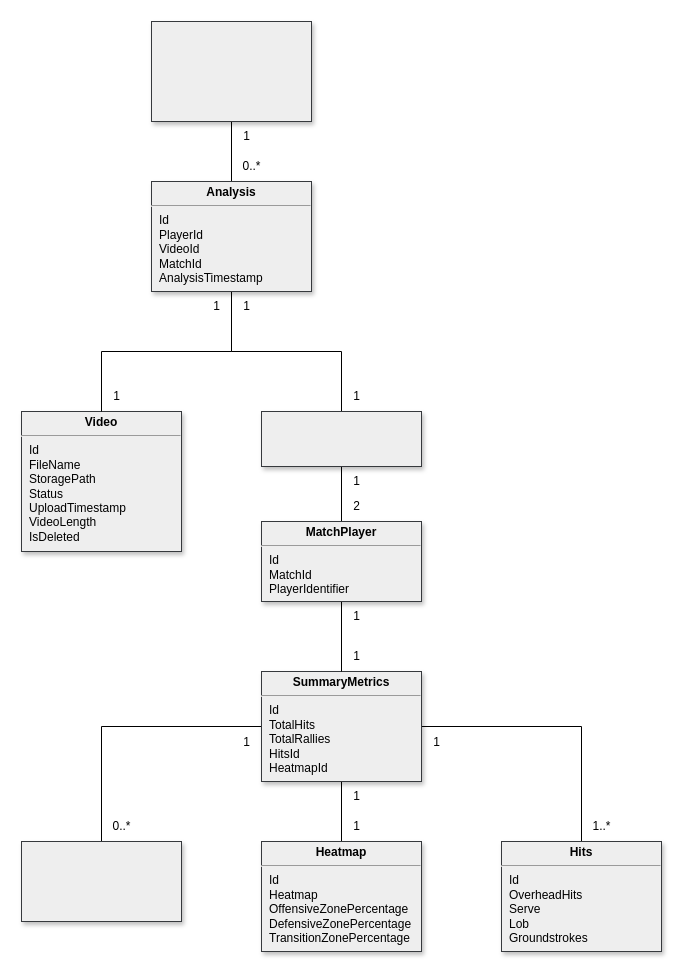
This 685x976 diagram has some shape labels left out. Here are the shapes that lost their labels. From the top down, the centre of each, then its label:
At [232,72]: "Player Id Name Email Role".
At [342,440]: "Match Id".
At [102,882]: "Rally Id SummaryMetricsId Duration".
